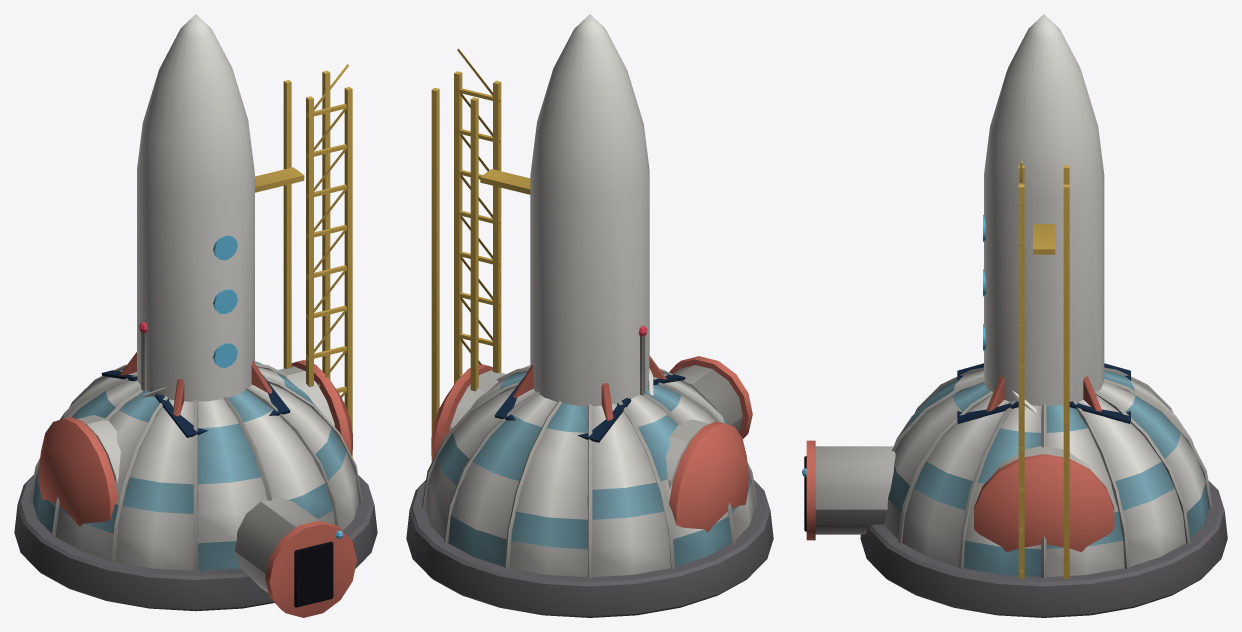
The model's file is kit-luna.glb.
3 renders of one model, left to right at view 1: azimuth 30°, elevation 25°; view 2: azimuth 150°, elevation 25°; view 3: azimuth 270°, elevation 25°, orthographic.
Parts seen in each view (by area): view 1: cupola, razzo, modulo; view 2: cupola, razzo, modulo; view 3: cupola, razzo, modulo.
Boxes of the visible parts, bbox=[...] form: cupola: bbox=[14, 322, 377, 617]; razzo: bbox=[120, 14, 352, 456]; modulo: bbox=[39, 360, 352, 526]; cupola: bbox=[406, 325, 773, 617]; razzo: bbox=[431, 14, 666, 461]; modulo: bbox=[431, 364, 748, 532]; cupola: bbox=[802, 367, 1227, 617]; razzo: bbox=[983, 14, 1104, 578]; modulo: bbox=[957, 363, 1130, 552].
Bounding box in the file's own units: 4.89 × 7.86 × 5.67.
